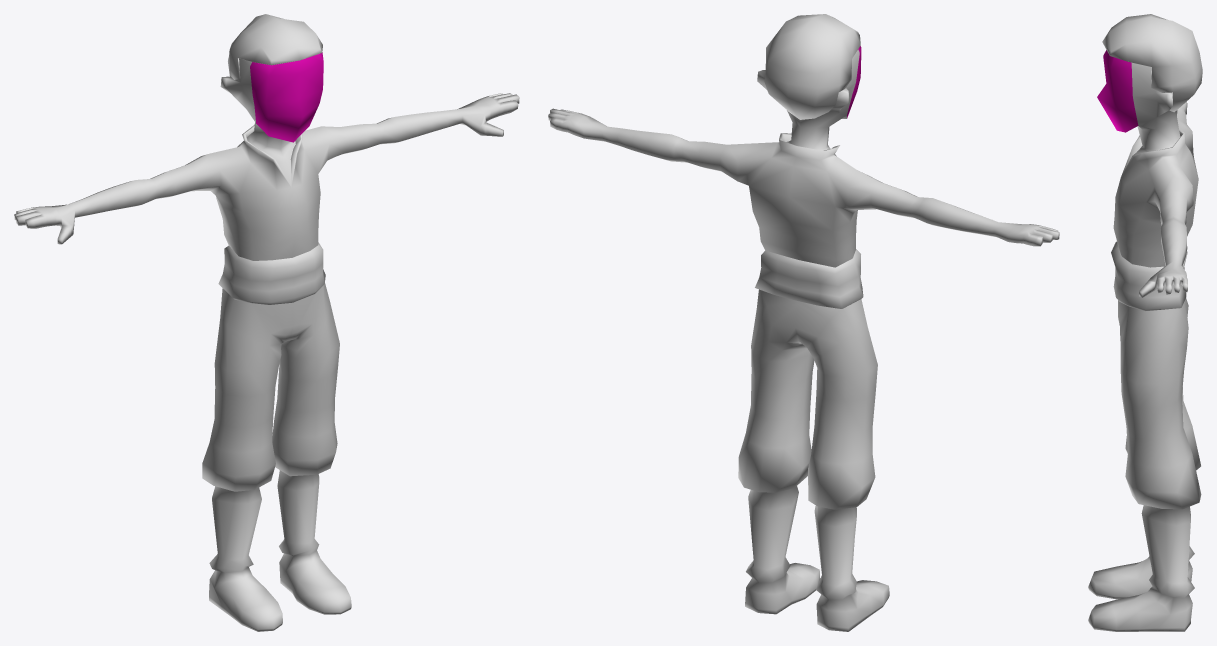
File: Male NPC 1.fbx
3 renders of one model, left to right at view 1: azimuth 30°, elevation 25°; view 2: azimuth 150°, elevation 25°; view 3: azimuth 270°, elevation 25°, orthographic.
Parts seen in each view (by area): view 1: Main Character.003, Main Character.004; view 2: Main Character.003, Main Character.004; view 3: Main Character.003, Main Character.004.
Boxes of the visible parts, bbox=[...] form: Main Character.003: bbox=[14, 52, 519, 631]; Main Character.004: bbox=[228, 14, 322, 79]; Main Character.003: bbox=[548, 46, 1059, 631]; Main Character.004: bbox=[764, 14, 860, 119]; Main Character.003: bbox=[1088, 50, 1201, 631]; Main Character.004: bbox=[1102, 14, 1202, 112].
Size of the model in its own units: 158 by 176 by 31.05.
